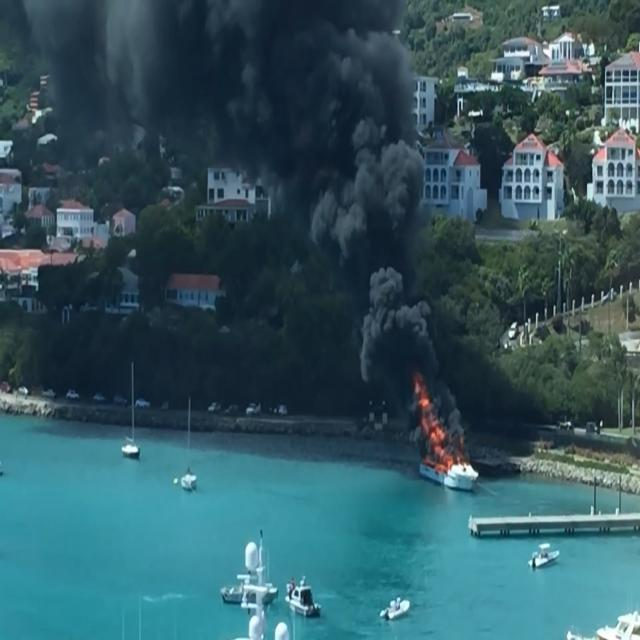Smoke: (225, 1, 401, 139), (284, 111, 415, 255), (360, 260, 435, 396)
